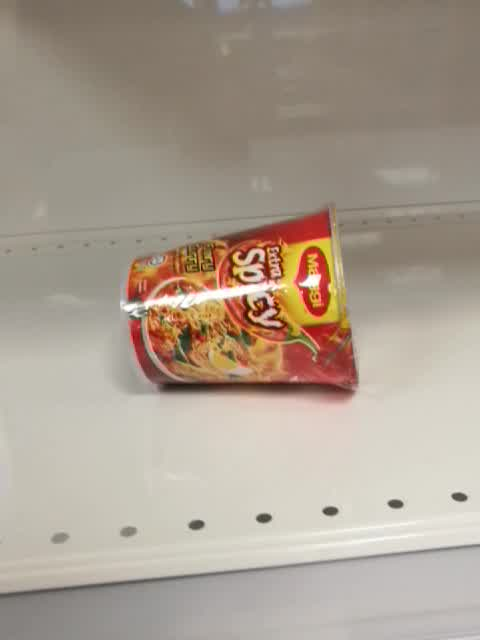maggi: (119, 201, 361, 397)
